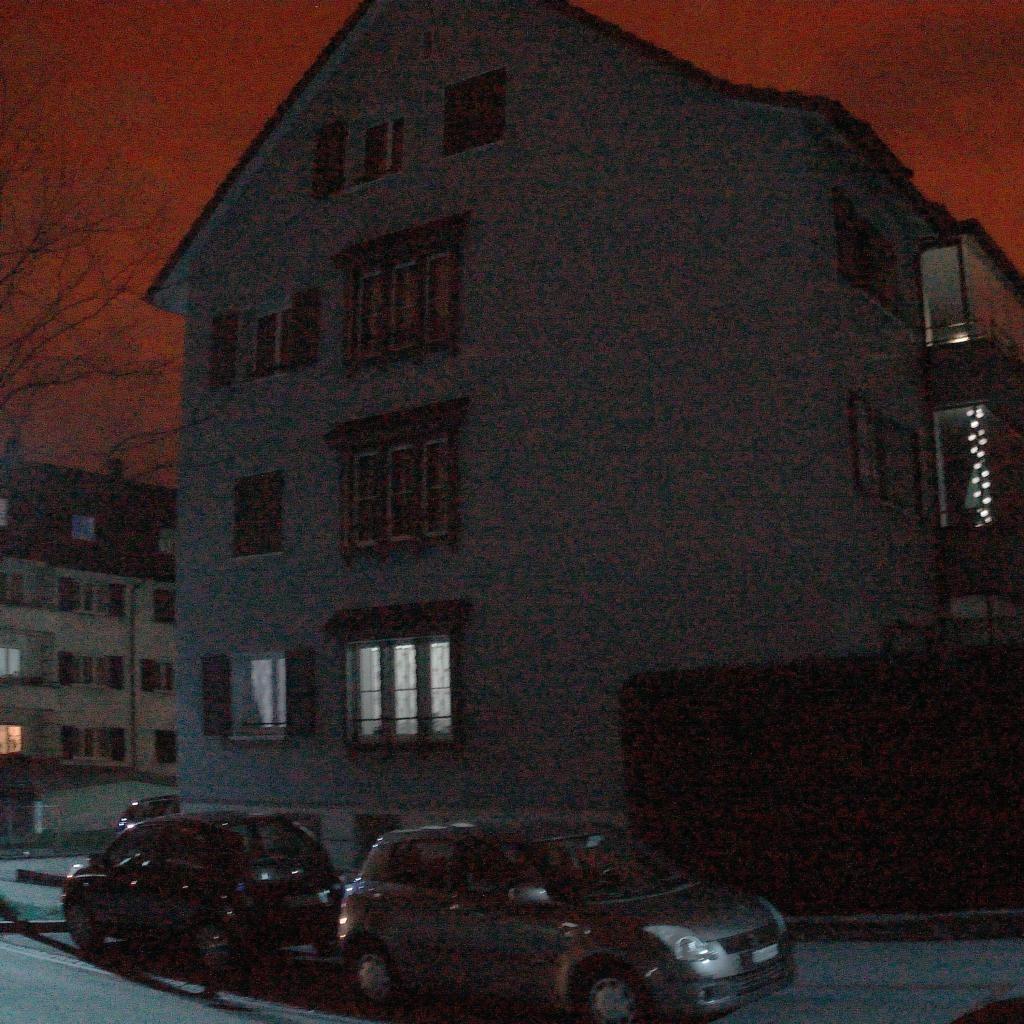balcony-fence: (919, 315, 1024, 380), (936, 501, 1024, 543), (941, 610, 1024, 644), (352, 714, 454, 739), (244, 719, 289, 730)
car: (60, 791, 799, 1024), (948, 993, 1024, 1024)
facade: (0, 0, 1024, 917)
non-building-infrastructure: (89, 944, 611, 1024), (787, 908, 1024, 940)
street: (0, 855, 380, 1024), (720, 938, 1024, 1024)
vegetation: (0, 63, 268, 554), (617, 644, 1024, 915)
window: (353, 434, 449, 549), (356, 250, 451, 360), (352, 639, 452, 737), (442, 67, 506, 156), (232, 468, 284, 559), (246, 656, 285, 727), (363, 115, 402, 181), (255, 305, 290, 374), (875, 429, 893, 502), (864, 234, 879, 289), (0, 643, 22, 679), (85, 727, 109, 757), (0, 723, 22, 755), (82, 584, 108, 611), (154, 590, 175, 623), (155, 730, 176, 763), (71, 515, 96, 542), (75, 658, 100, 684), (0, 573, 16, 602), (159, 527, 175, 554), (156, 663, 169, 689), (0, 499, 8, 527)
